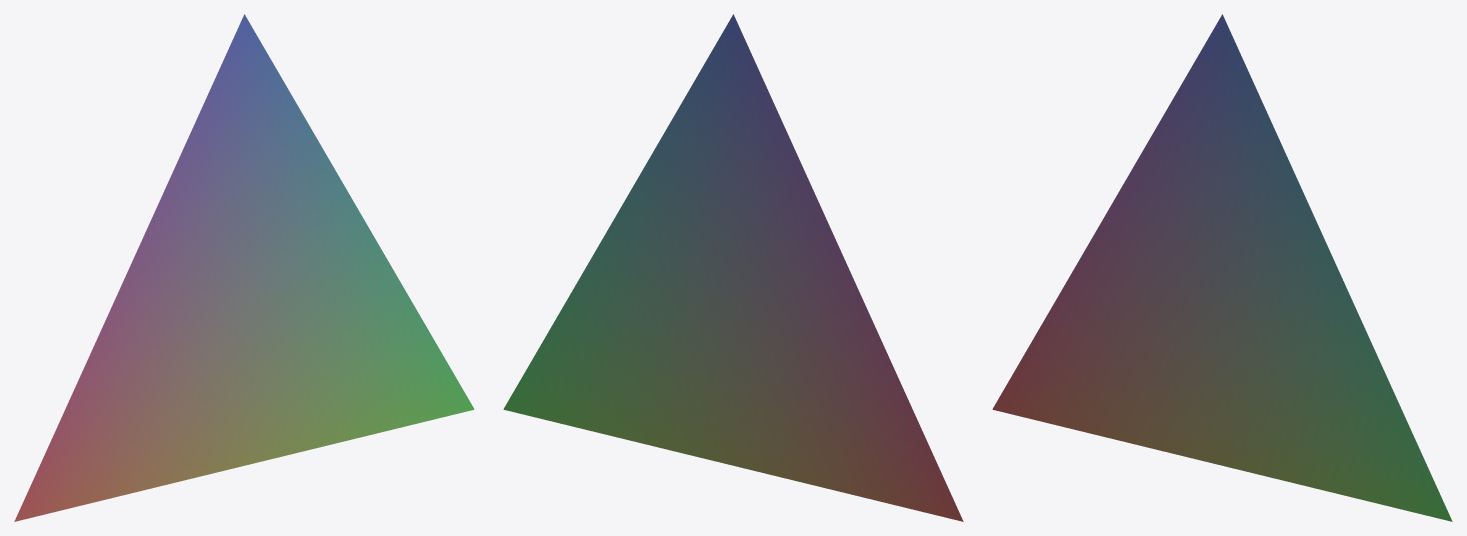
The model's file is barycentric.gltf.
3 renders of one model, left to right at view 1: azimuth 30°, elevation 25°; view 2: azimuth 150°, elevation 25°; view 3: azimuth 330°, elevation 25°, orthographic.
Parts seen in each view (by area): view 1: Triangle; view 2: Triangle; view 3: Triangle.
Part boxes in pixels (box(x1,y1,x2,y2)): Triangle: box(14, 14, 474, 521); Triangle: box(503, 14, 963, 521); Triangle: box(992, 14, 1452, 521).
Size of the model in its own units: 1.6 by 1.5 by 0.
